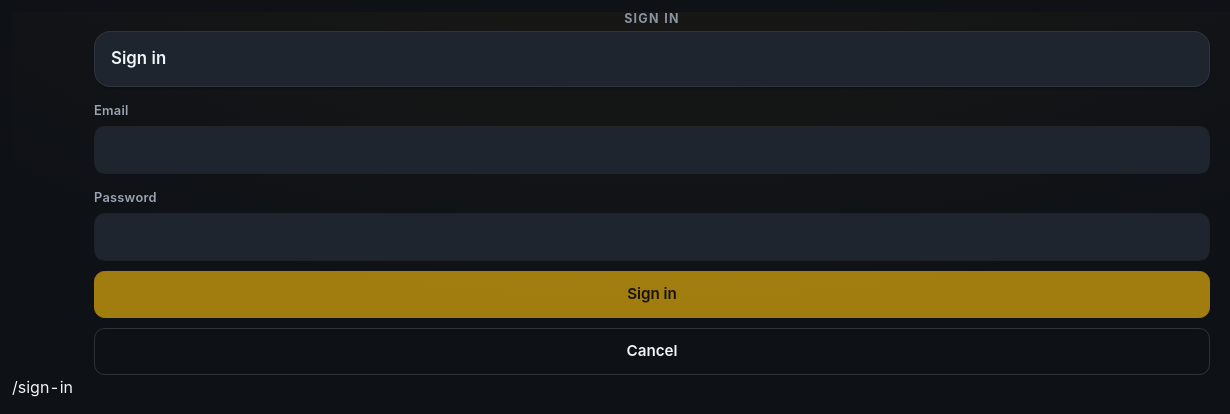
SignInScreen › submits the typed credentials and lands on /account
Type "jane@example.com" into the field labelled "Email".
click(652, 150); type("jane@example.com")  # box [94,126,1210,174]
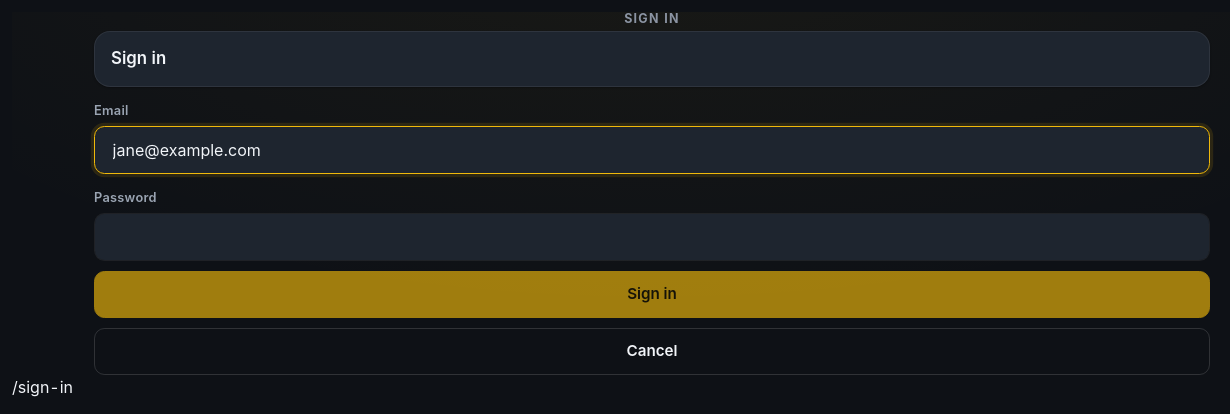
Type "hunter22!" into the password field labelled "Password".
click(652, 236); type("hunter22!")  # box [94,212,1210,260]
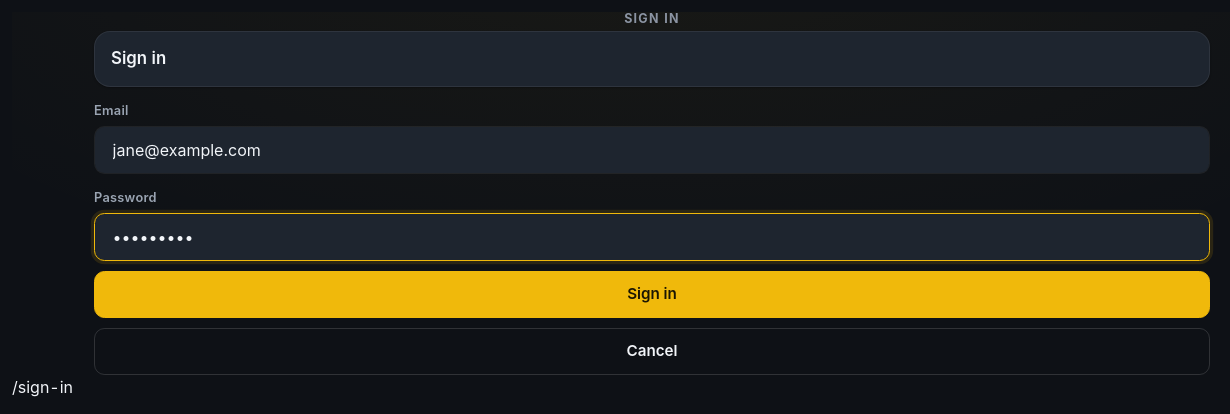
Click the button "Sign in".
click(652, 294)  # box [94,270,1210,318]
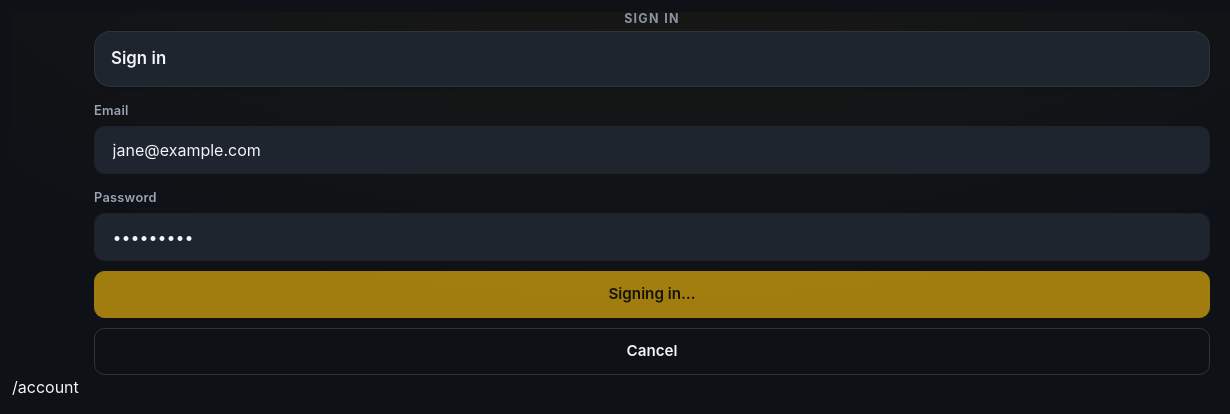
Check: the text with test id "location" reads "/account", box [12,377,79,397]
